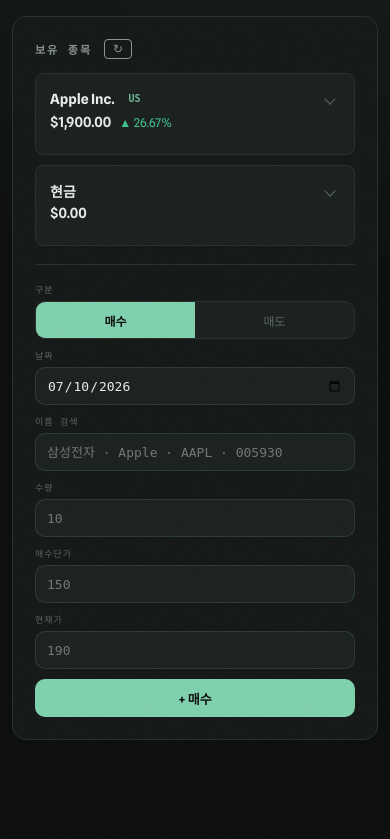
HoldingsTable › HoldingsTable 모바일 카드 › 카드에 ticker 표시 (expanded)
Click the button titled "펼치기" in the row of "US": (330, 98) x1=320 y1=88 x2=340 y2=109
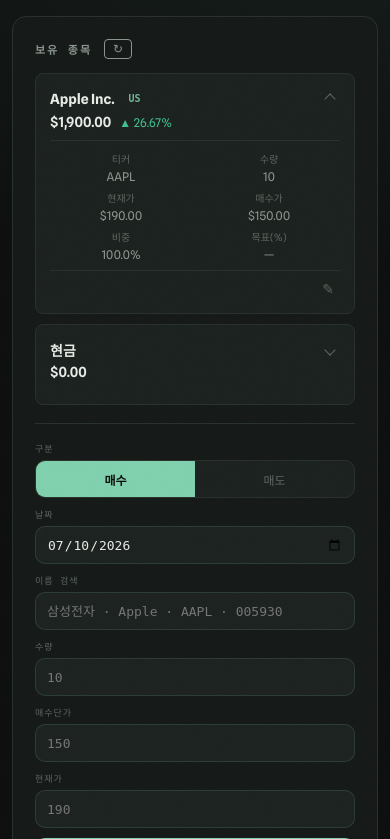
Now the element with class "holding-card" shows "AAPL", box x1=106 y1=169 x2=136 y2=184
